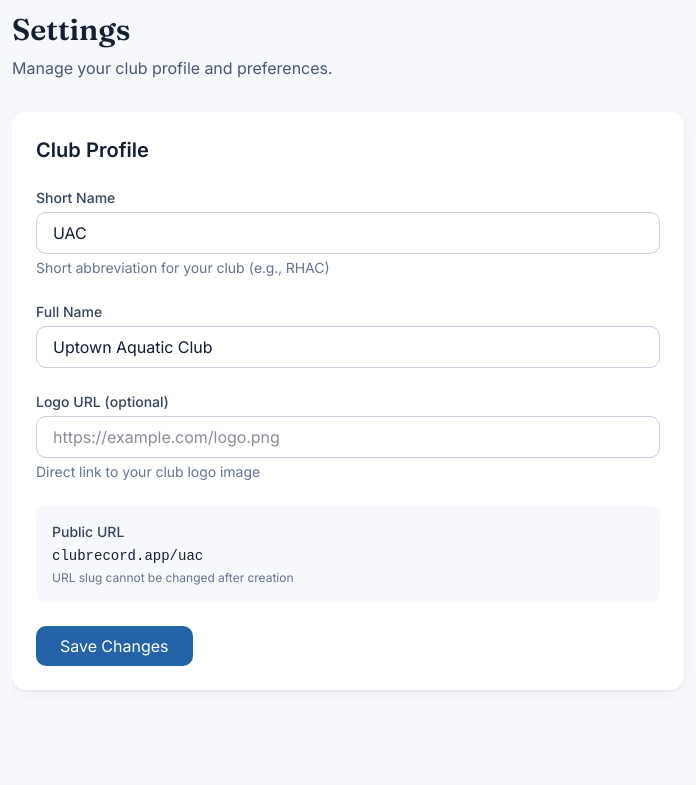
Test case: SettingsPage › shows a success message when the update succeeds
Click the button "Save Changes" at (114, 646), box 36,626 -> 192,666
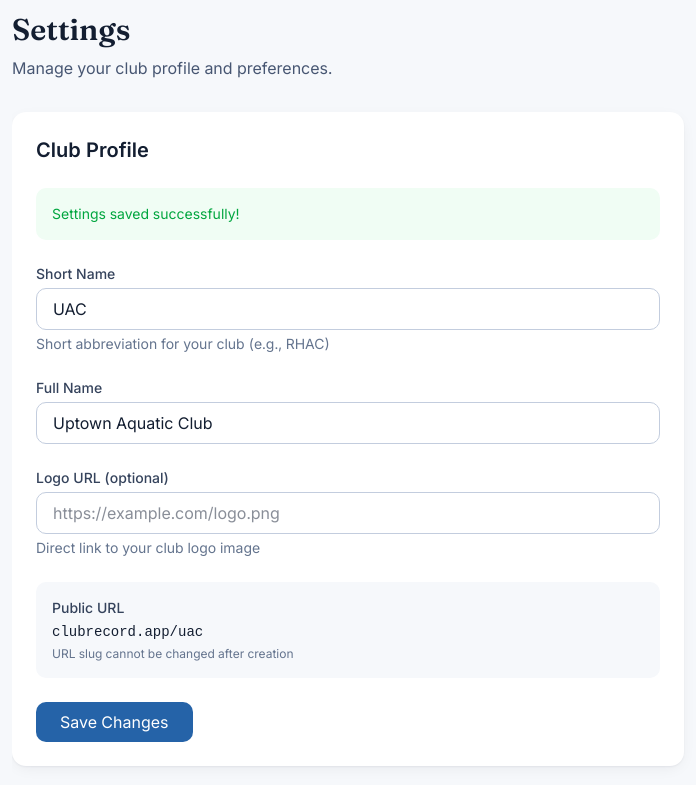
Expected: the text "Settings saved successfully!" is shown, 36,188 -> 660,240
